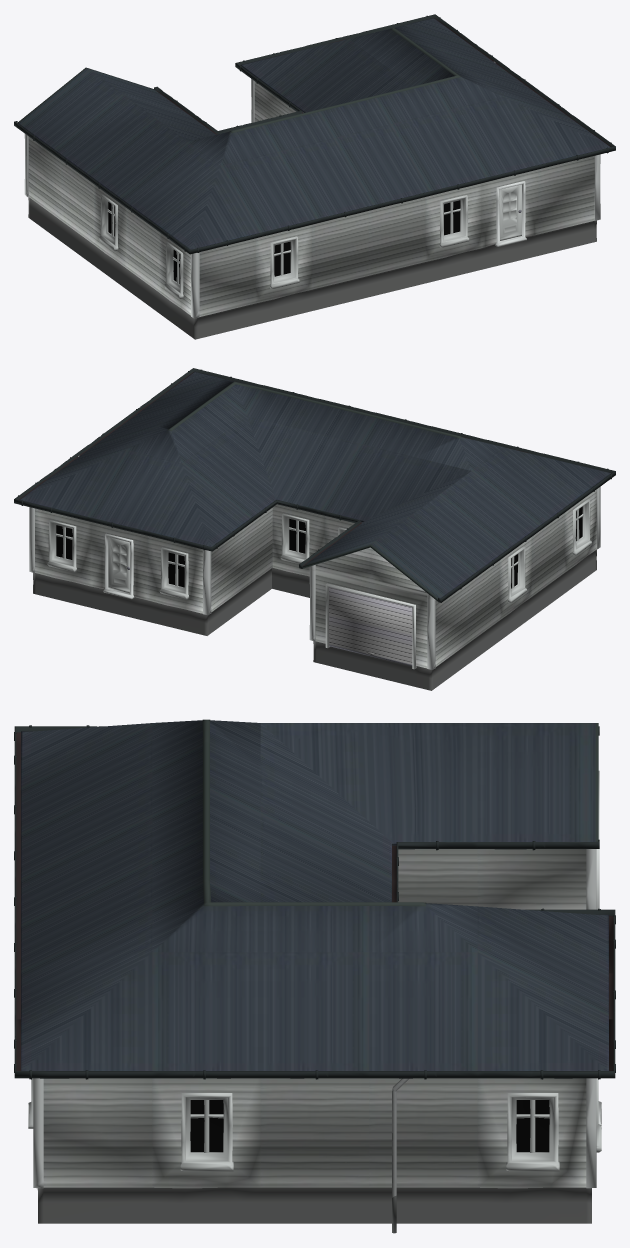
Rendered from v2-buildings-suburban-SM_Bld_House_Preset_08_1809.glb.
3 renders of one model, top to bottom at view 1: azimuth 30°, elevation 25°; view 2: azimuth 150°, elevation 25°; view 3: azimuth 270°, elevation 25°, orthographic. The views are drawn at different scales.
Visible parts, largest first — view 1: suburban-house_3; view 2: suburban-house_3; view 3: suburban-house_3.
Boxes of the visible parts, <box> form: suburban-house_3: <box>14,14,615,339</box>; suburban-house_3: <box>14,368,615,690</box>; suburban-house_3: <box>14,719,615,1233</box>.
Size of the model in its own units: 18.87 by 6.41 by 13.87.
1 material, 1 textured.
